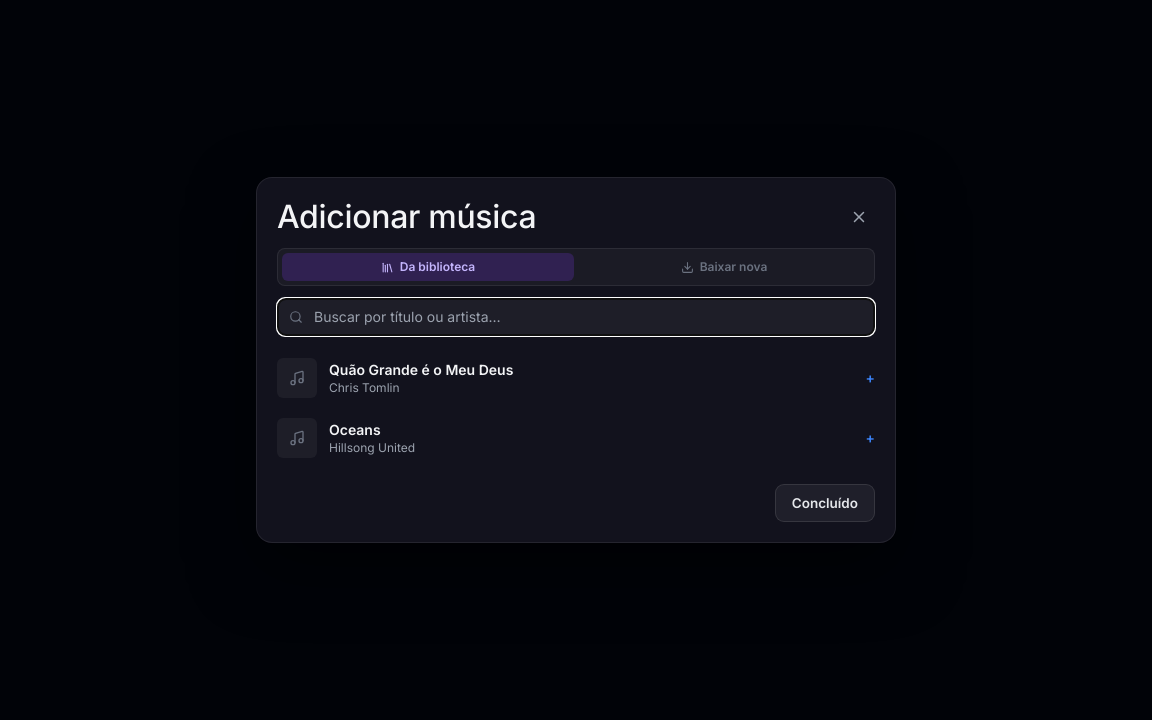
Test: AddSongToPlaylistModal › busca filtra músicas por título
Expected: the text "Quão Grande é o Meu Deus" is shown, 329,361 -> 513,378
Type "Oceans" into the field with placeholder "Buscar por título ou artista…" at {"x": 576, "y": 317}, box 277,298 -> 875,336
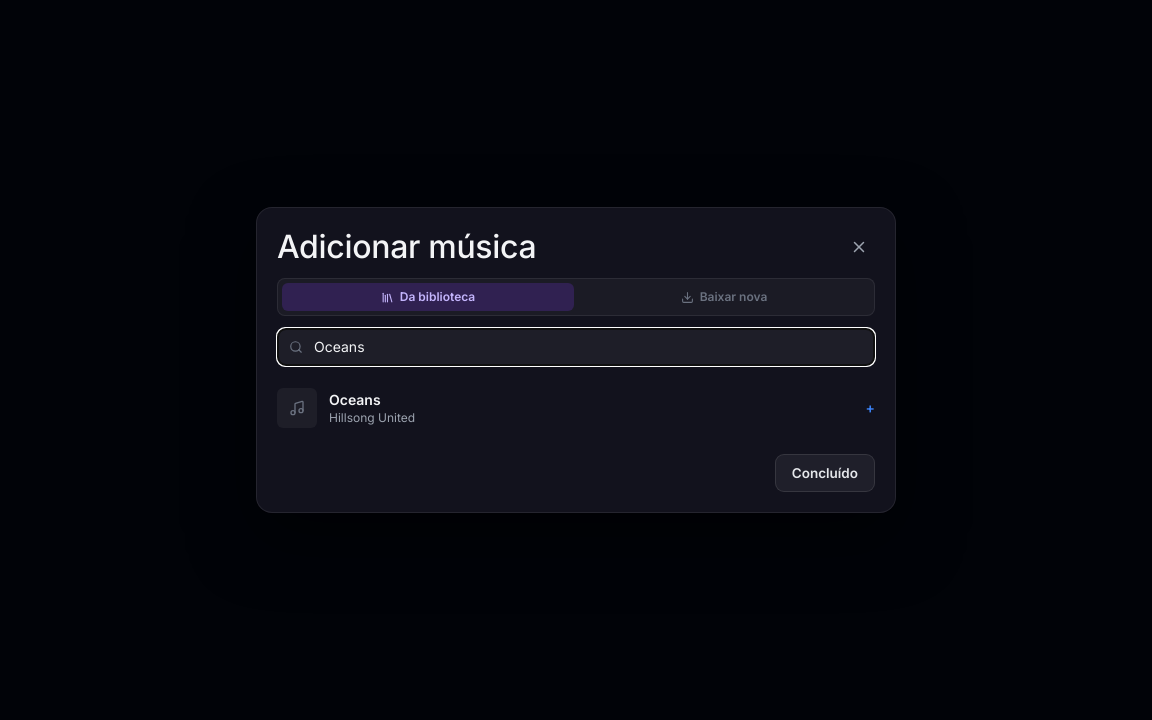
Expected: the text "Oceans" is shown, 329,391 -> 381,408
Now the button "Quão Grande é o Meu Deus" is gone
